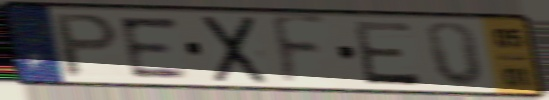0: (425, 20, 487, 91)
E: (349, 19, 425, 88), (114, 15, 193, 80)
F: (268, 12, 331, 90)
P: (52, 11, 123, 80)
X: (199, 13, 271, 86)
